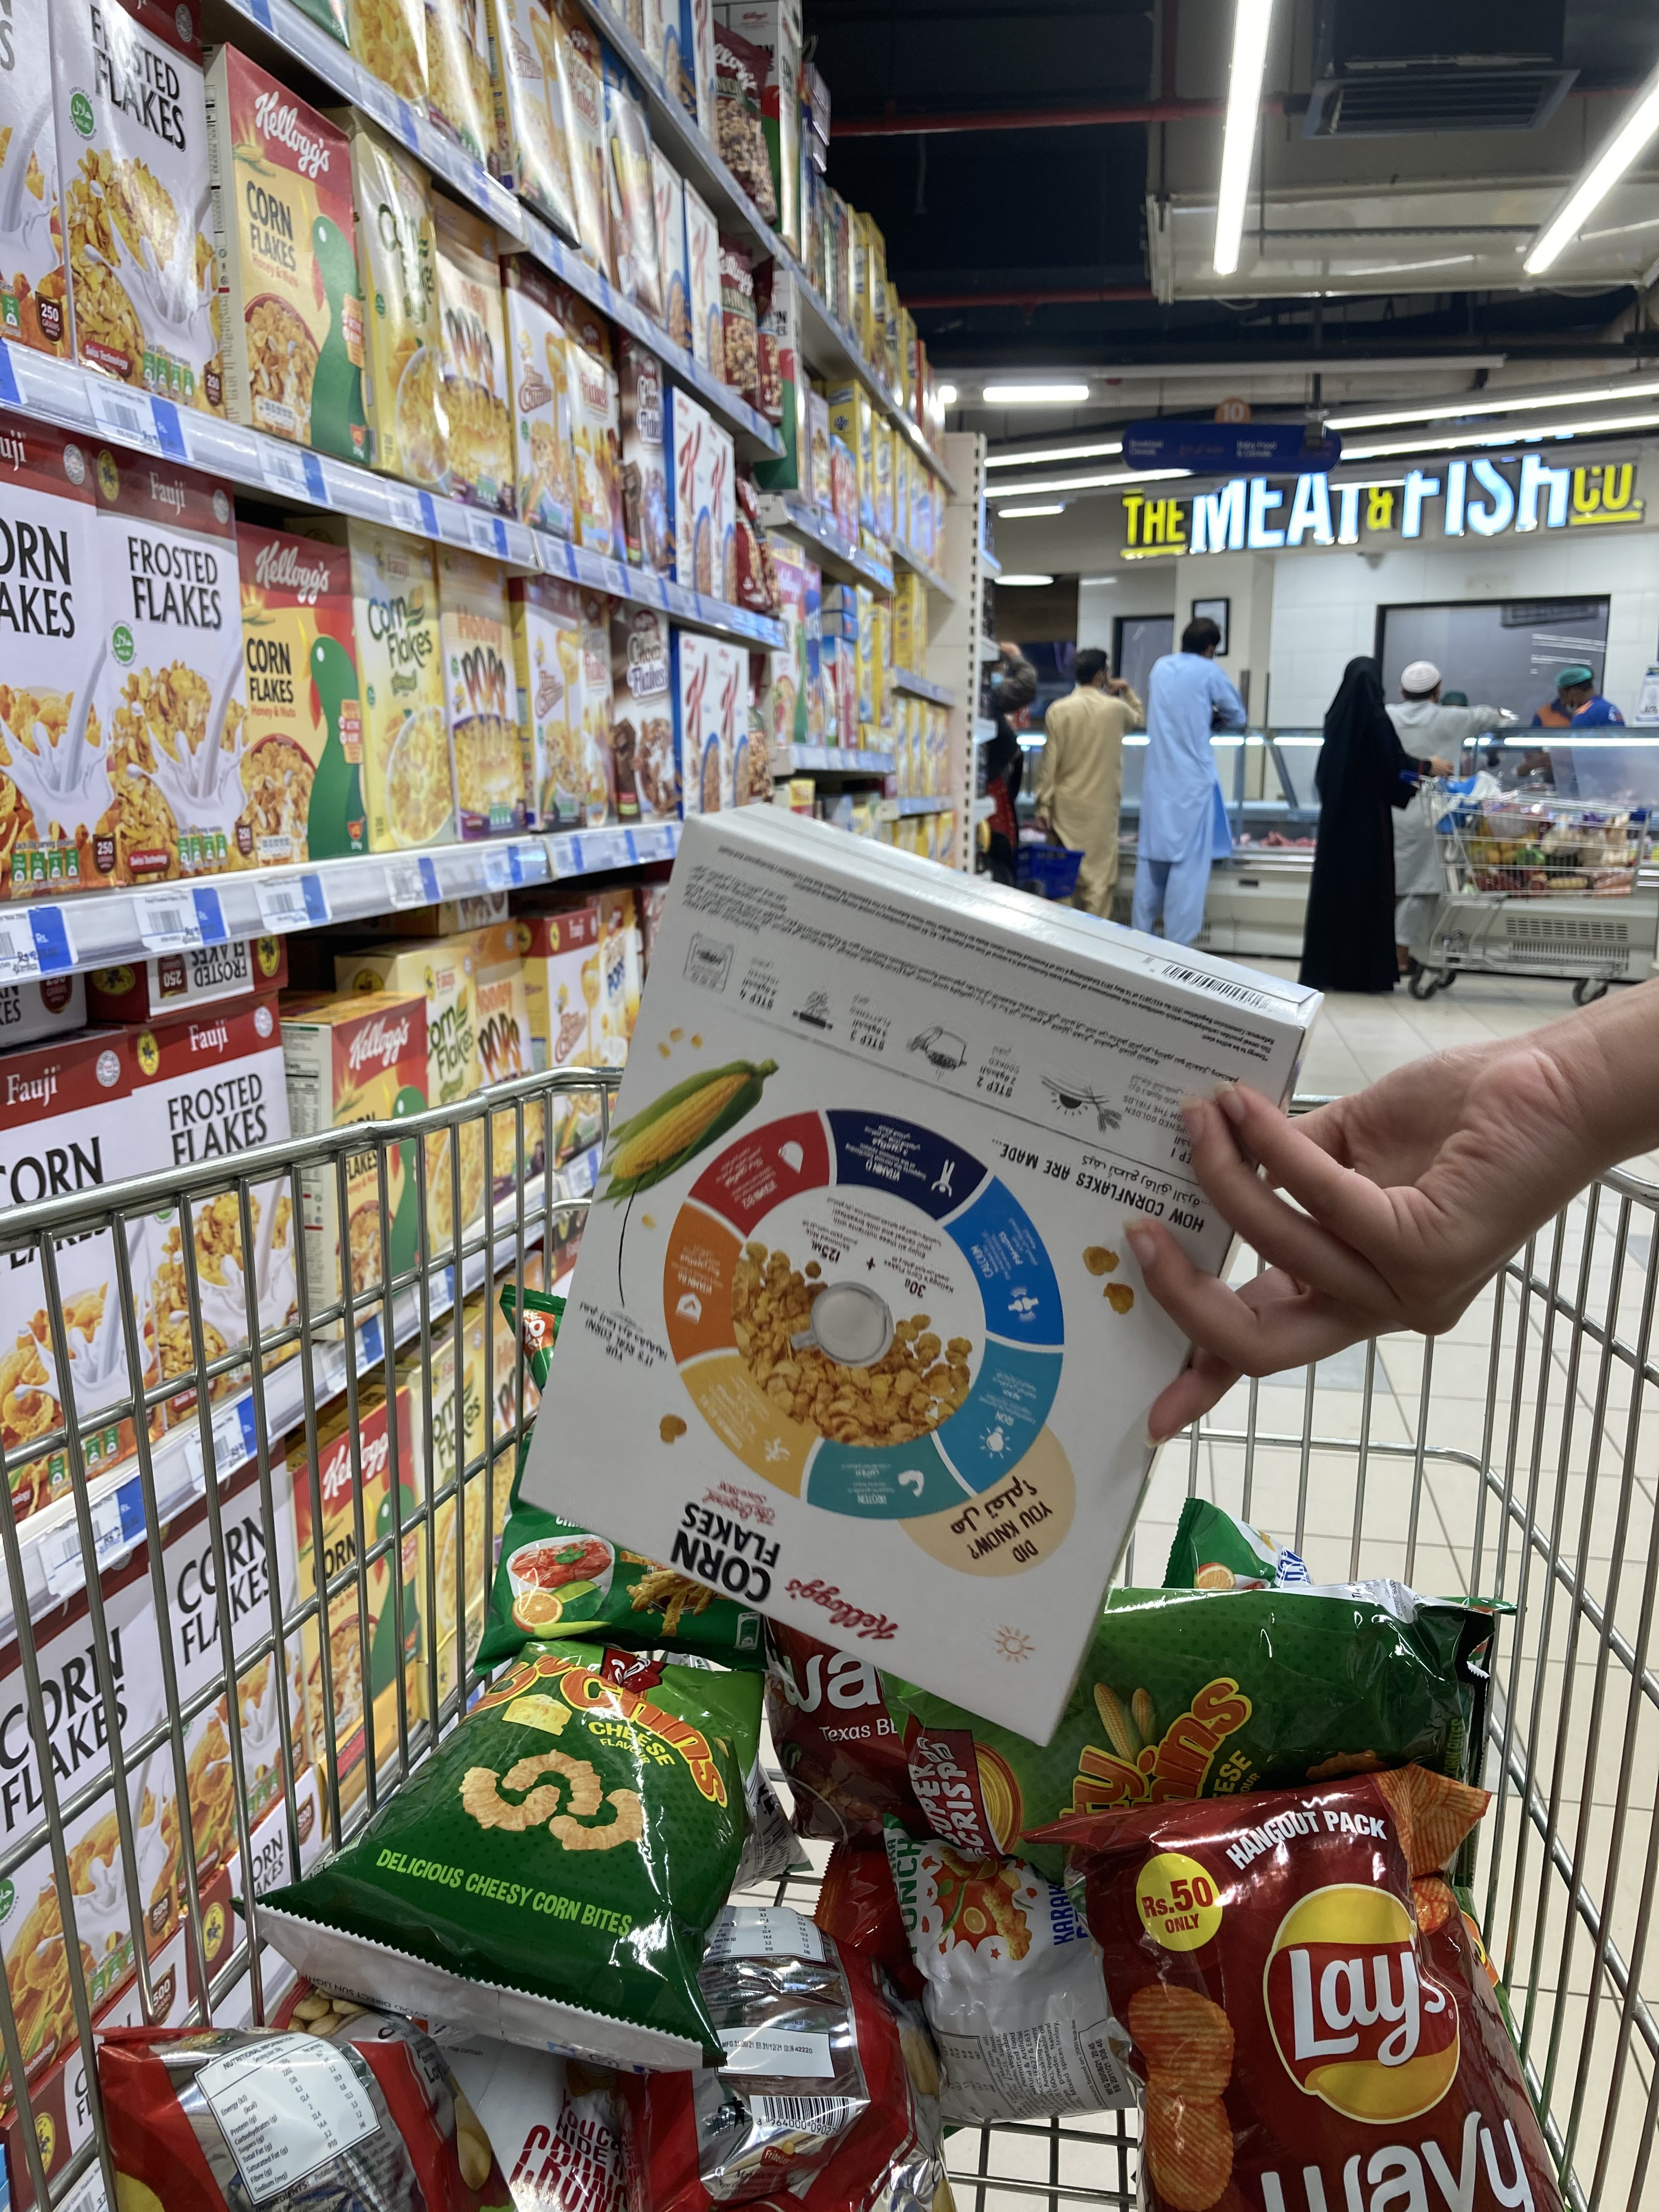Kellogg's Corn Flakes: (509, 808, 1331, 1747)
